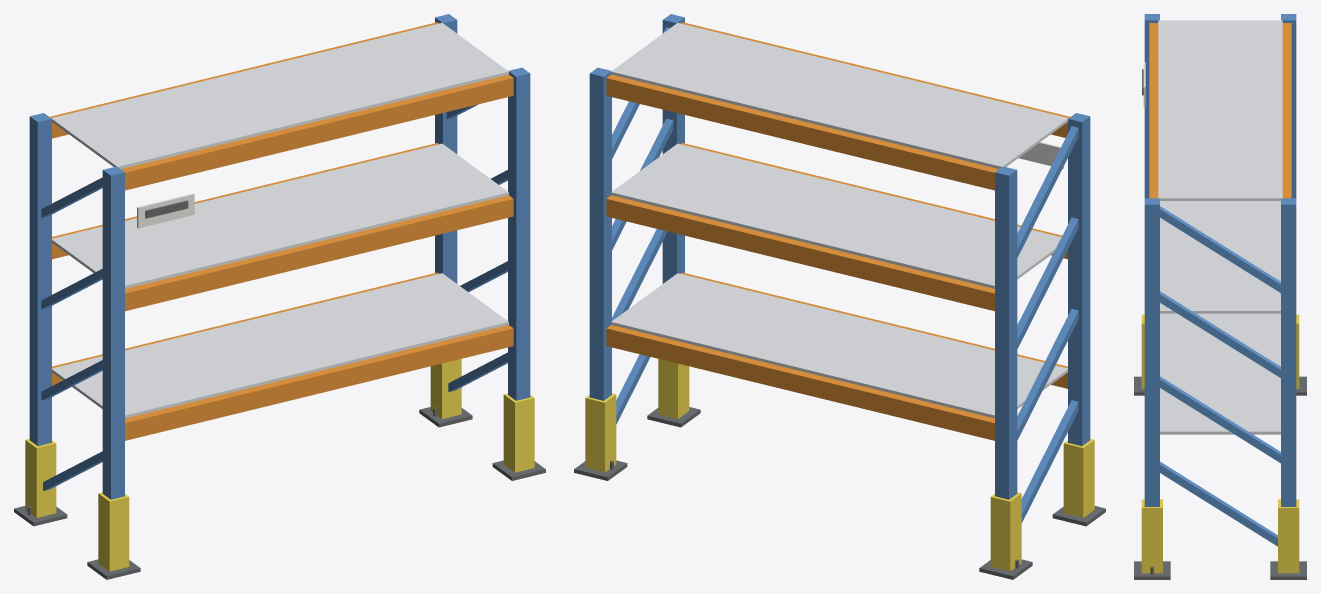
Rendered from tool-hire-depot-and-plant-yard-tool-hire-depot-and-pla-9e642a78__35308.glb.
The picture shows the model from 3 angles, left to right: view 1: azimuth 30°, elevation 25°; view 2: azimuth 150°, elevation 25°; view 3: azimuth 270°, elevation 25°; orthographic projection. The views are drawn at different scales.
Parts seen in each view (by area): view 1: tool-hire-depot-and-plant-yard-racking-bay-empty; view 2: tool-hire-depot-and-plant-yard-racking-bay-empty; view 3: tool-hire-depot-and-plant-yard-racking-bay-empty.
Boxes of the visible parts, x1,y1,x2,y2 form: tool-hire-depot-and-plant-yard-racking-bay-empty: [14, 14, 545, 579]; tool-hire-depot-and-plant-yard-racking-bay-empty: [574, 14, 1105, 579]; tool-hire-depot-and-plant-yard-racking-bay-empty: [1134, 14, 1306, 579].
Size of the model in its own units: 3.12 by 2.7 by 1.14.
